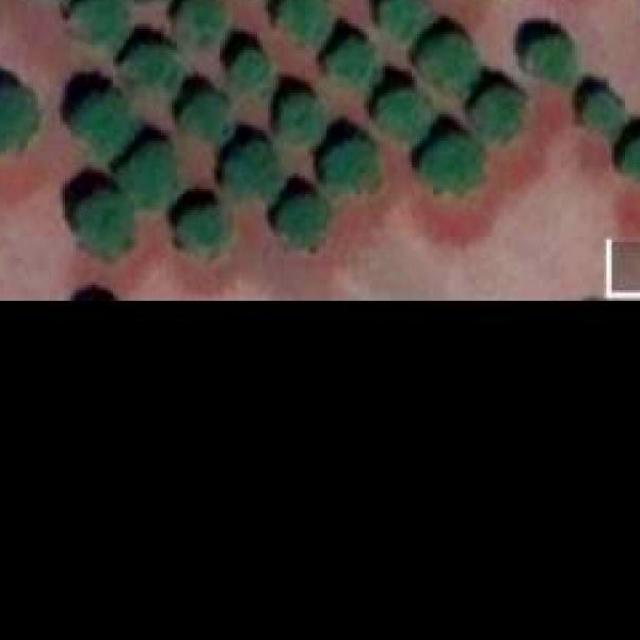Tree: (79, 192, 132, 259), (422, 136, 481, 194), (122, 146, 175, 210), (420, 34, 477, 91), (225, 146, 282, 200), (76, 96, 127, 155), (74, 0, 132, 50), (327, 141, 378, 194), (122, 48, 178, 94), (383, 90, 431, 140), (330, 42, 378, 92), (174, 0, 225, 46), (0, 87, 36, 151), (282, 0, 330, 48), (527, 40, 575, 86), (186, 98, 232, 144), (284, 200, 326, 250), (182, 210, 230, 253), (476, 90, 518, 138), (385, 0, 428, 43), (233, 48, 273, 94), (282, 98, 324, 141), (588, 95, 623, 135), (625, 138, 640, 188)
